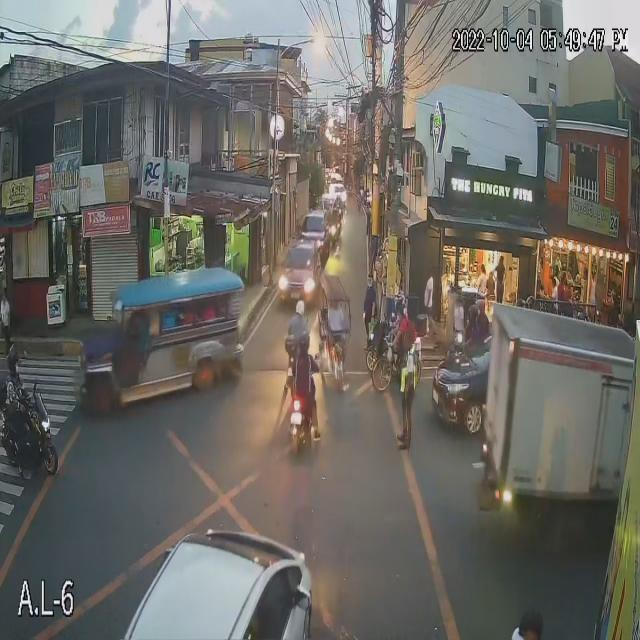helmet: (2, 349, 23, 374), (298, 334, 315, 361), (466, 304, 482, 327), (475, 298, 489, 315), (294, 300, 304, 317)
motorcycle: (0, 384, 59, 466), (273, 381, 330, 447), (278, 330, 309, 369)
rider: (290, 333, 320, 410), (282, 296, 311, 371), (2, 345, 28, 428), (470, 292, 493, 349), (459, 305, 480, 358)
